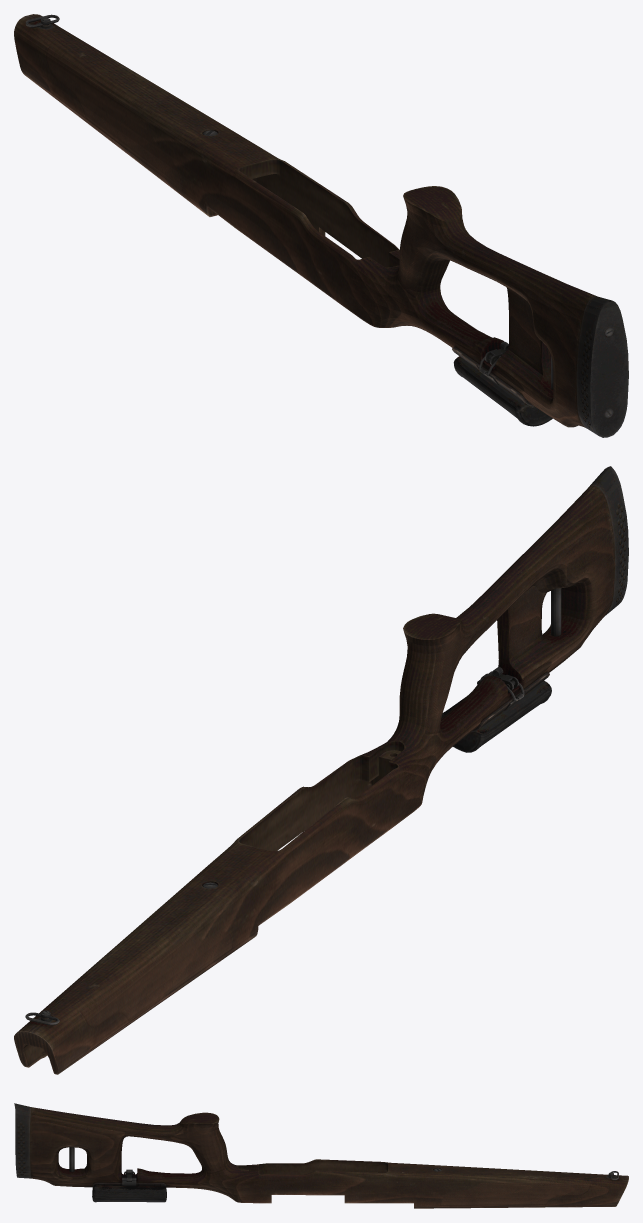
The picture shows the model from 3 angles, top to bottom: view 1: azimuth 30°, elevation 25°; view 2: azimuth 150°, elevation 25°; view 3: azimuth 270°, elevation 25°; orthographic projection. The views are drawn at different scales.
Parts seen in each view (by area): view 1: TW_5f63405df5750b524b45f114_PZ_Import; view 2: TW_5f63405df5750b524b45f114_PZ_Import; view 3: TW_5f63405df5750b524b45f114_PZ_Import.
Boxes of the visible parts, <box> form: TW_5f63405df5750b524b45f114_PZ_Import: <box>14,14,628,437</box>; TW_5f63405df5750b524b45f114_PZ_Import: <box>14,466,628,1074</box>; TW_5f63405df5750b524b45f114_PZ_Import: <box>14,1103,628,1208</box>.
Size of the model in its own units: 0.0299 by 0.5279 by 0.0942.
Materials: 1 (1 with a texture image).
